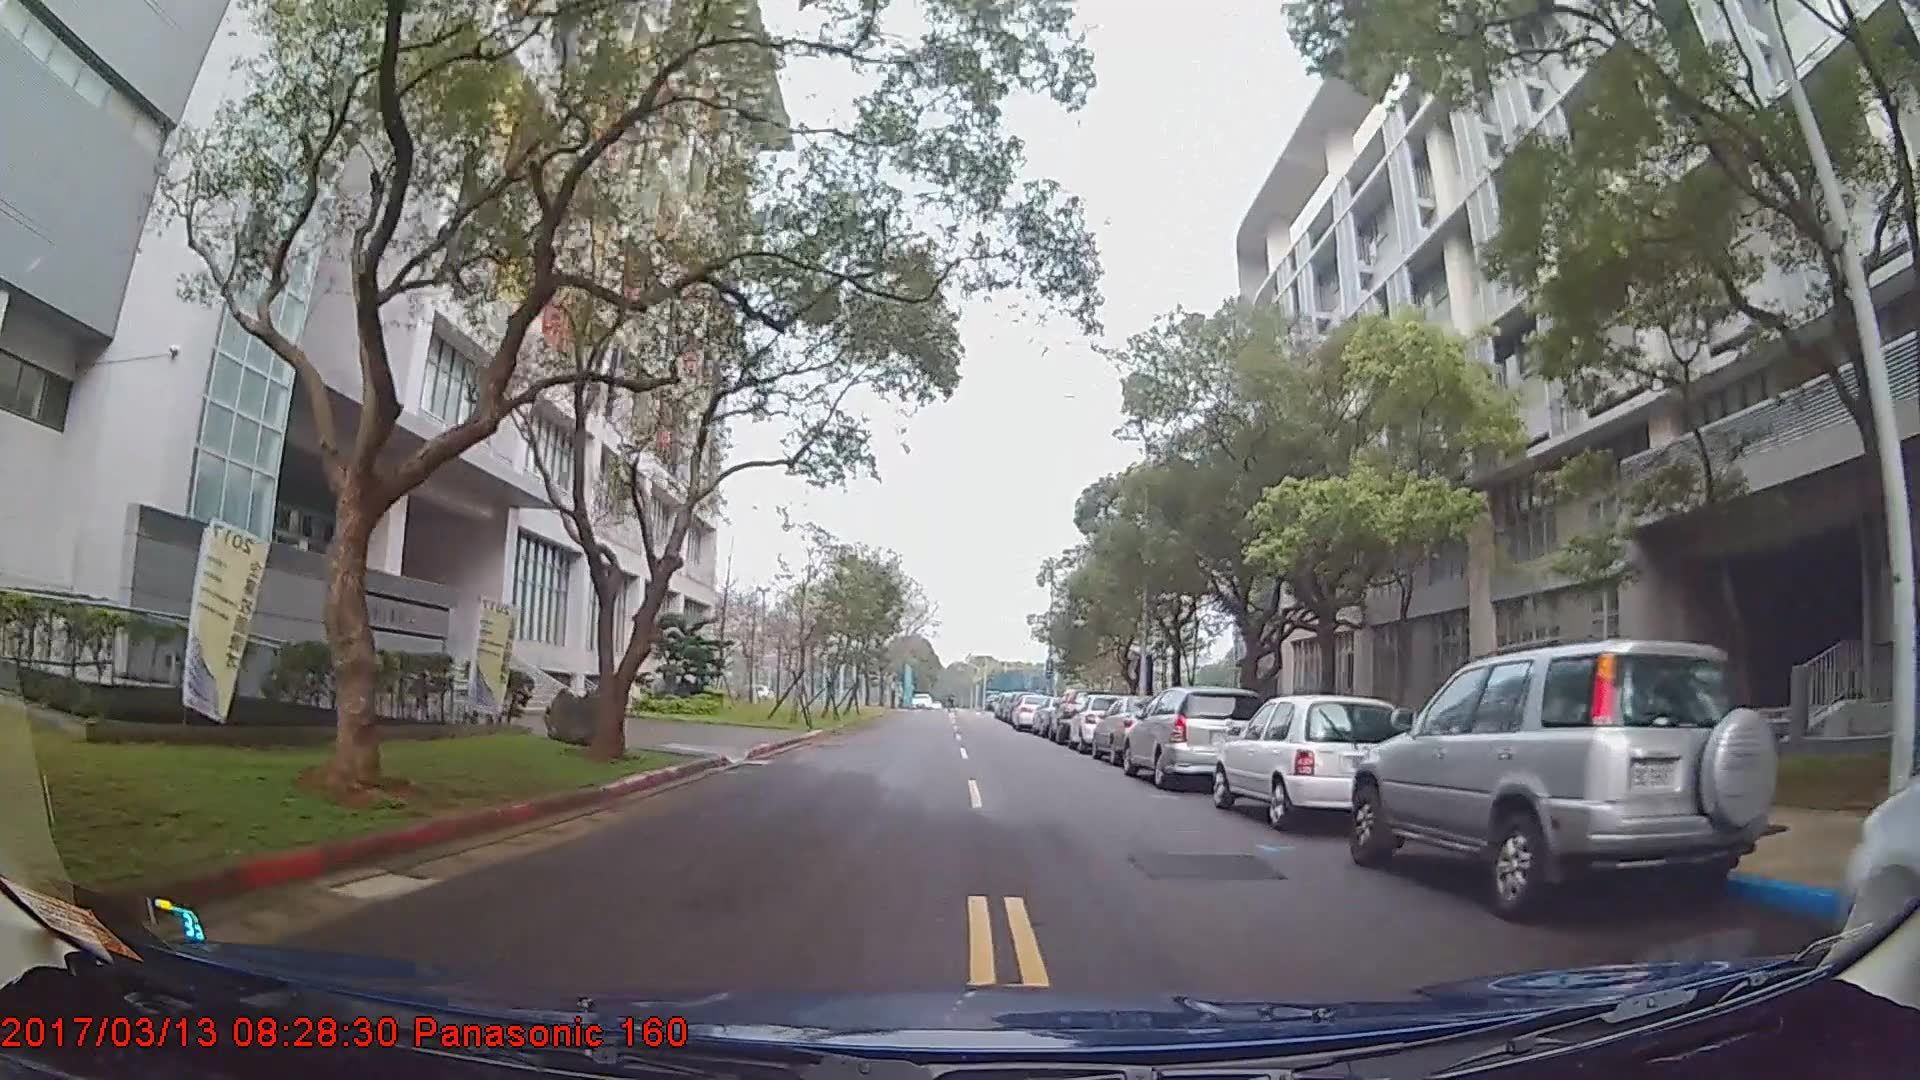vehicle: (1346, 636, 1782, 923), (1212, 694, 1410, 832), (1118, 684, 1266, 789), (1007, 690, 1052, 731)
